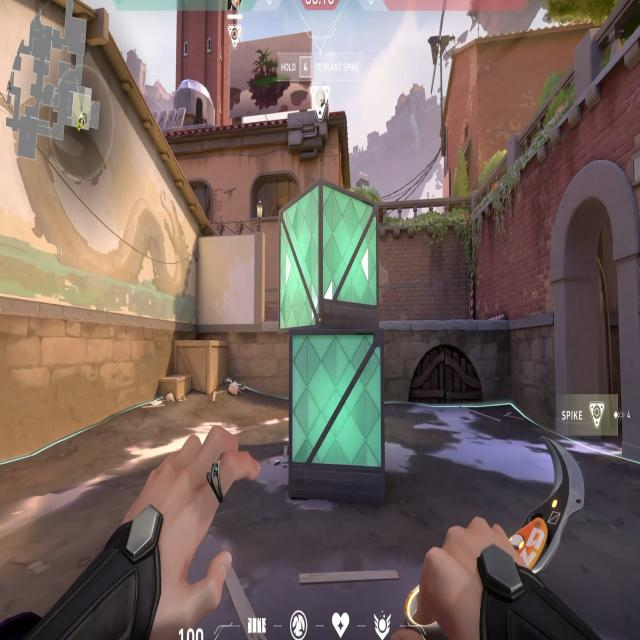B_Boathouse: (542, 150, 640, 447)
B_Site_Box: (264, 181, 402, 500)
